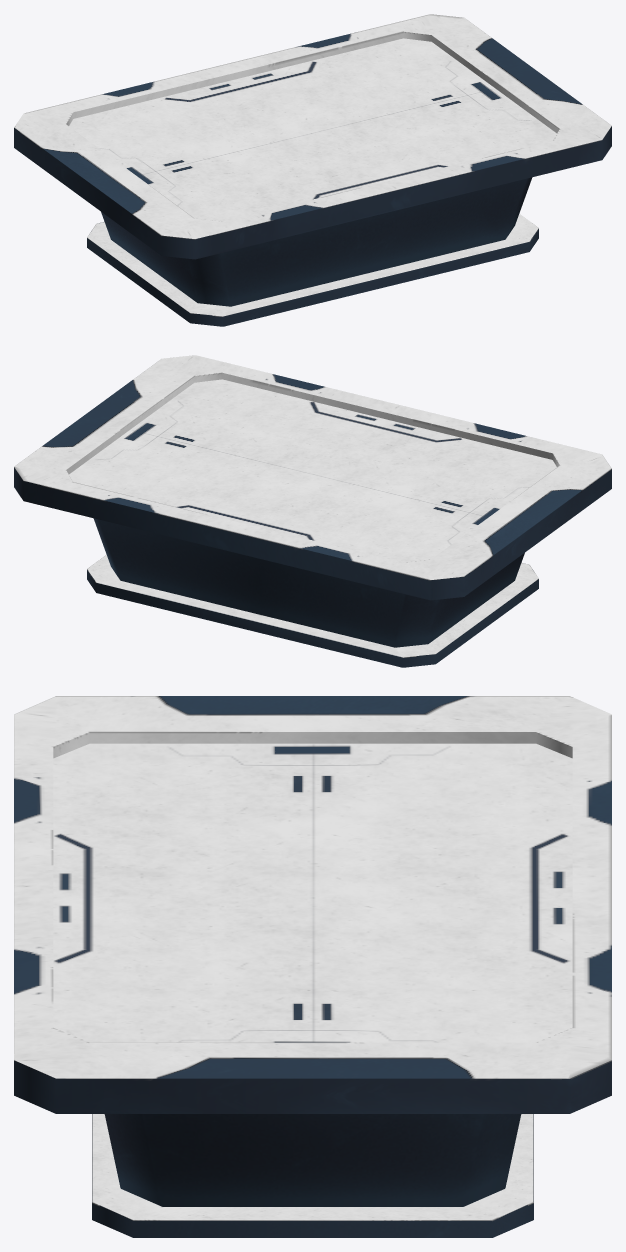
Rendered from Table.glb.
3 renders of one model, top to bottom at view 1: azimuth 30°, elevation 25°; view 2: azimuth 150°, elevation 25°; view 3: azimuth 270°, elevation 25°, orthographic. The views are drawn at different scales.
Parts seen in each view (by area): view 1: SFI-Table; view 2: SFI-Table; view 3: SFI-Table.
Boxes of the visible parts, x1,y1,x2,y2 form: SFI-Table: (14, 14, 611, 326); SFI-Table: (14, 355, 611, 667); SFI-Table: (14, 696, 611, 1237).
Bounding box in the file's own units: 10.57 × 2.61 × 6.98.
1 material, 1 textured.
